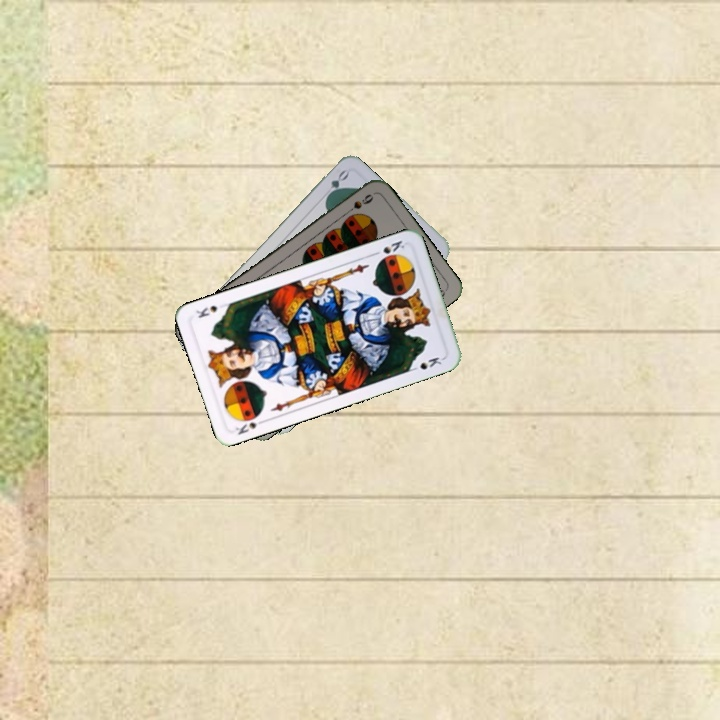GO: (320, 166, 351, 203)
S9: (340, 190, 376, 218)
SK: (368, 236, 407, 258), (232, 415, 269, 437)
